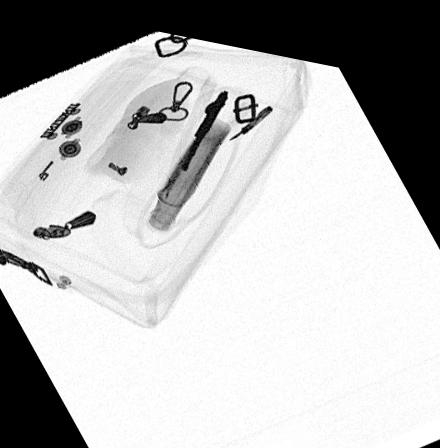Gun: (178, 81, 232, 164)
